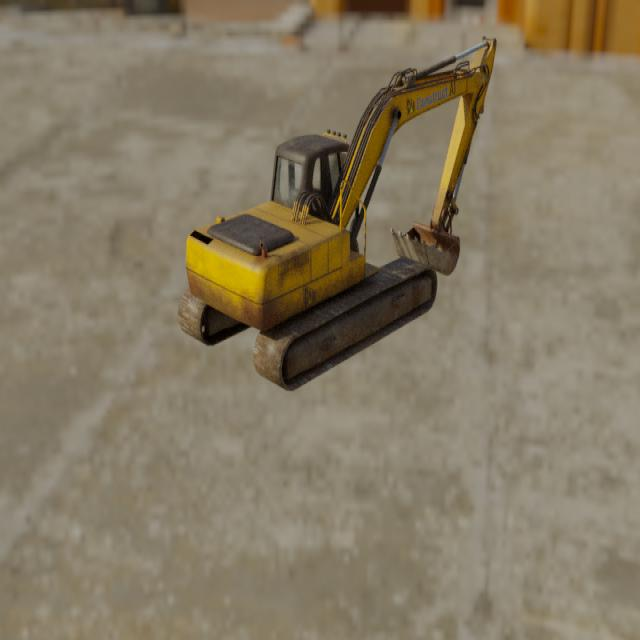excavator: (177, 34, 497, 390)
